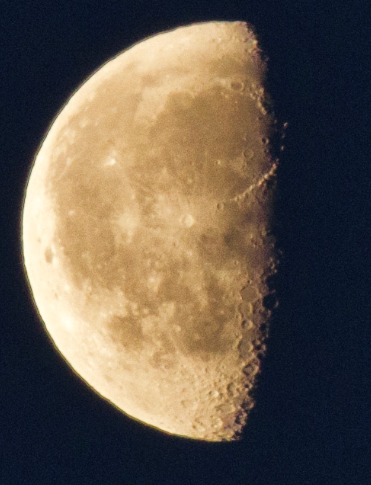crater: (144, 174, 209, 251), (90, 180, 154, 254), (220, 64, 254, 102), (40, 241, 68, 275), (257, 289, 290, 316), (235, 140, 256, 170), (97, 148, 123, 170), (235, 316, 254, 334), (212, 196, 227, 217)
